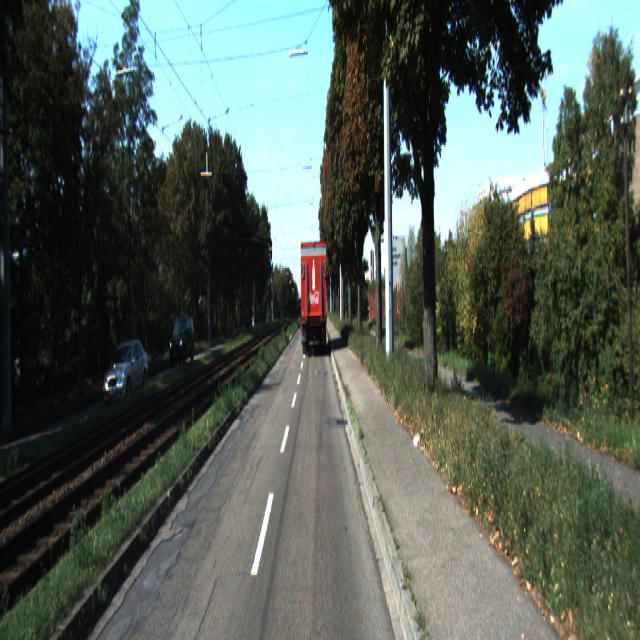Car: (101, 335, 149, 409), (299, 239, 328, 358), (168, 316, 195, 368)
